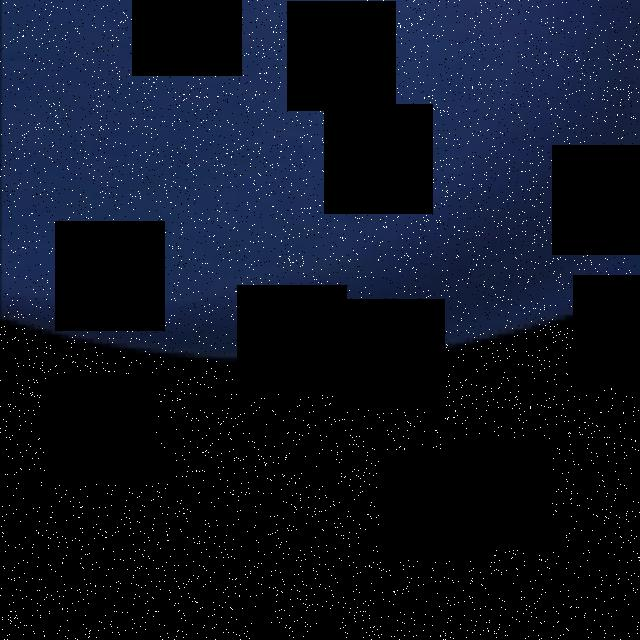Neptune: (0, 0, 640, 363)
